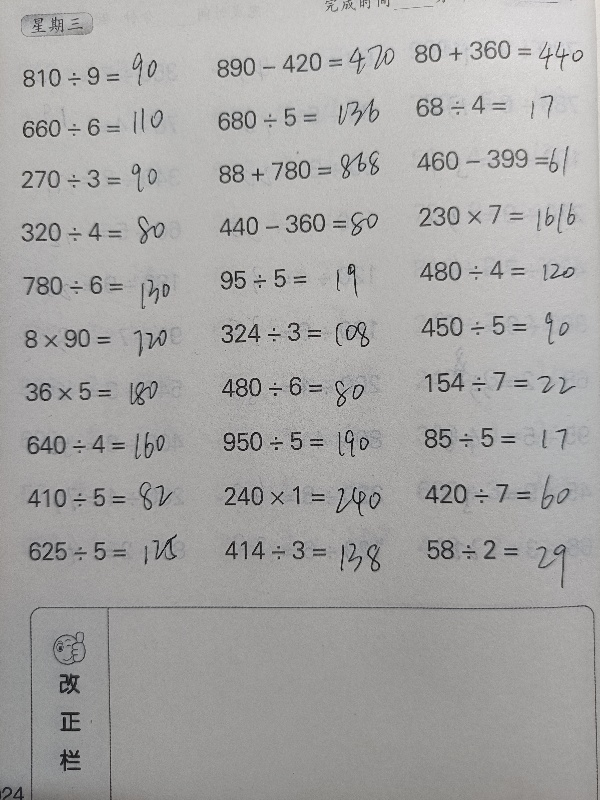equation: (419, 532, 596, 586), (416, 471, 596, 521), (208, 43, 388, 87), (406, 30, 586, 74), (408, 140, 588, 183), (19, 425, 199, 467), (214, 368, 394, 410), (210, 150, 390, 192), (210, 206, 390, 247), (13, 105, 193, 145), (415, 363, 595, 400), (412, 307, 592, 343), (11, 6, 191, 42), (20, 534, 200, 569), (216, 478, 396, 513), (215, 424, 395, 459), (415, 420, 595, 455), (212, 315, 392, 350), (211, 261, 391, 296), (411, 253, 591, 288), (13, 215, 193, 250), (410, 197, 590, 232), (209, 101, 389, 136), (407, 87, 587, 122), (14, 59, 194, 94), (217, 533, 397, 567), (18, 480, 198, 514), (17, 374, 197, 408), (16, 321, 196, 355), (14, 268, 194, 302), (14, 162, 194, 196)
